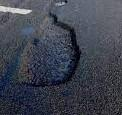pothole: (19, 10, 81, 89)
